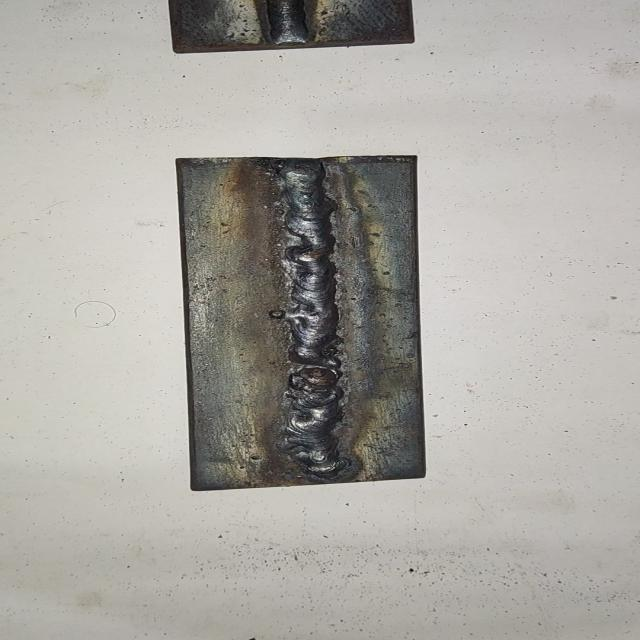Defect: (273, 347, 363, 390)
Welding Line: (280, 161, 347, 477)
Workpiece: (170, 151, 440, 497)
